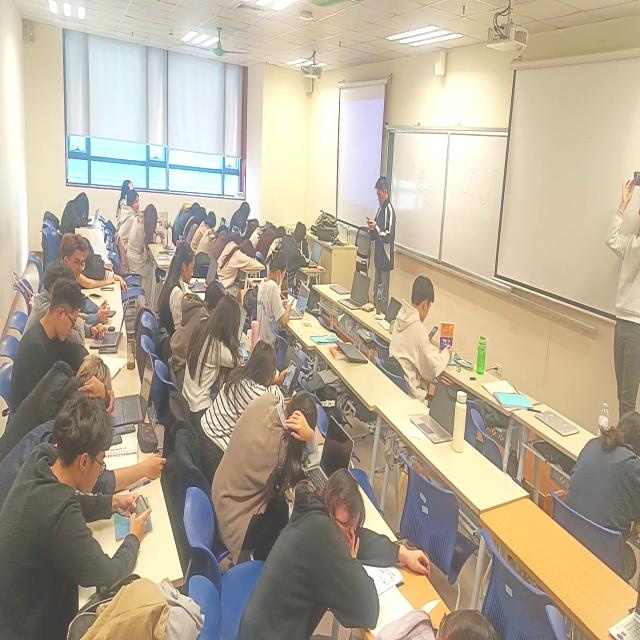raise_head: (118, 188, 142, 248)
sleep: (235, 457, 441, 640), (214, 380, 325, 562), (1, 395, 170, 502), (563, 402, 640, 584), (1, 350, 116, 458), (181, 291, 247, 423), (126, 202, 162, 282), (81, 244, 132, 298), (279, 219, 314, 290), (217, 239, 260, 293), (174, 200, 202, 243), (257, 224, 286, 264), (197, 222, 230, 256), (210, 229, 243, 262), (191, 210, 220, 247), (185, 205, 207, 246), (251, 220, 271, 250), (241, 215, 259, 241)
stand: (603, 157, 640, 424), (367, 173, 398, 313)
using_computer: (21, 255, 128, 353), (172, 276, 225, 379), (157, 237, 198, 334)
using_phone: (1, 391, 156, 640), (198, 336, 298, 476), (10, 276, 93, 405), (390, 272, 459, 399), (256, 246, 296, 348), (60, 191, 100, 235), (231, 199, 252, 233)
